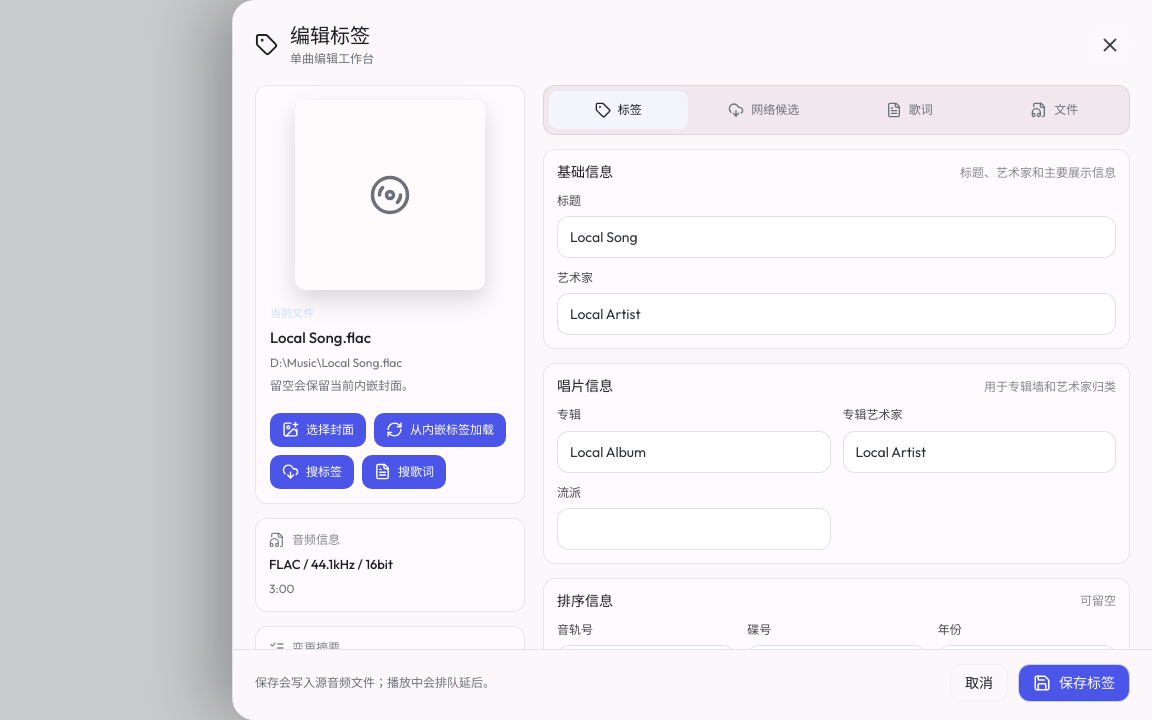
TrackTagEditorDrawer network tags › queries plugin metadata candidates manually without saving the file
This screenshot has width=1152, height=720.
Click the tab "网络候选": (764, 110) [694,91,833,129]
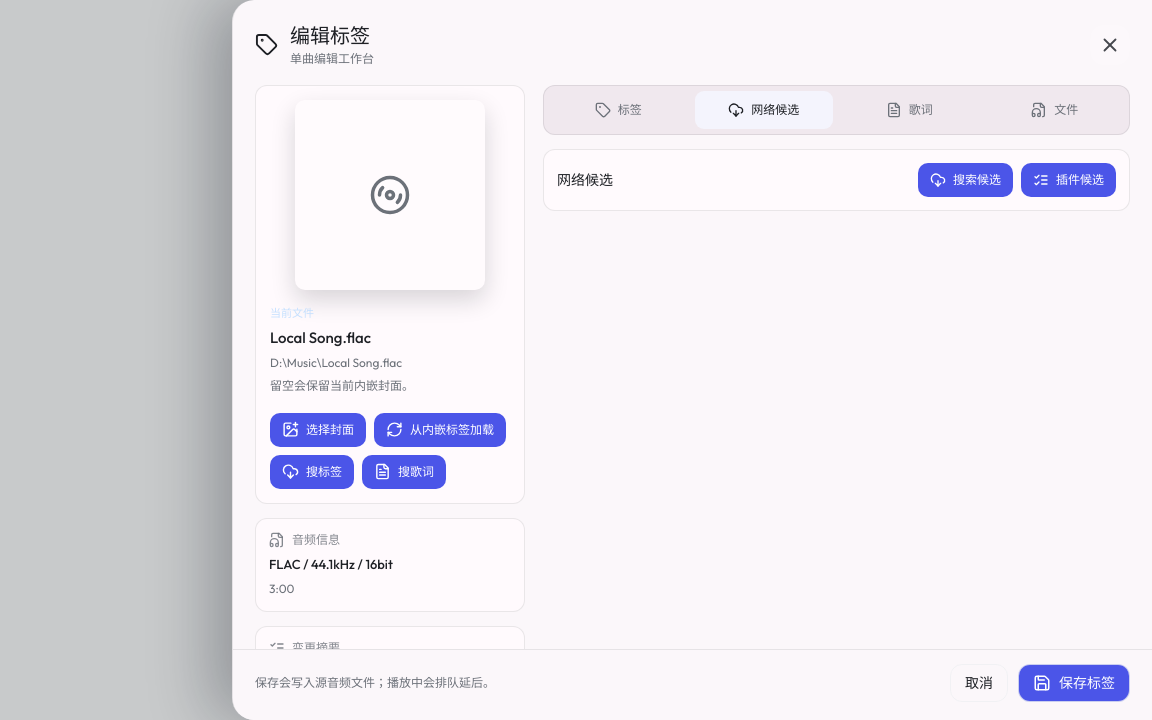
Click the button "插件候选": (1068, 180) [1021,163,1116,197]
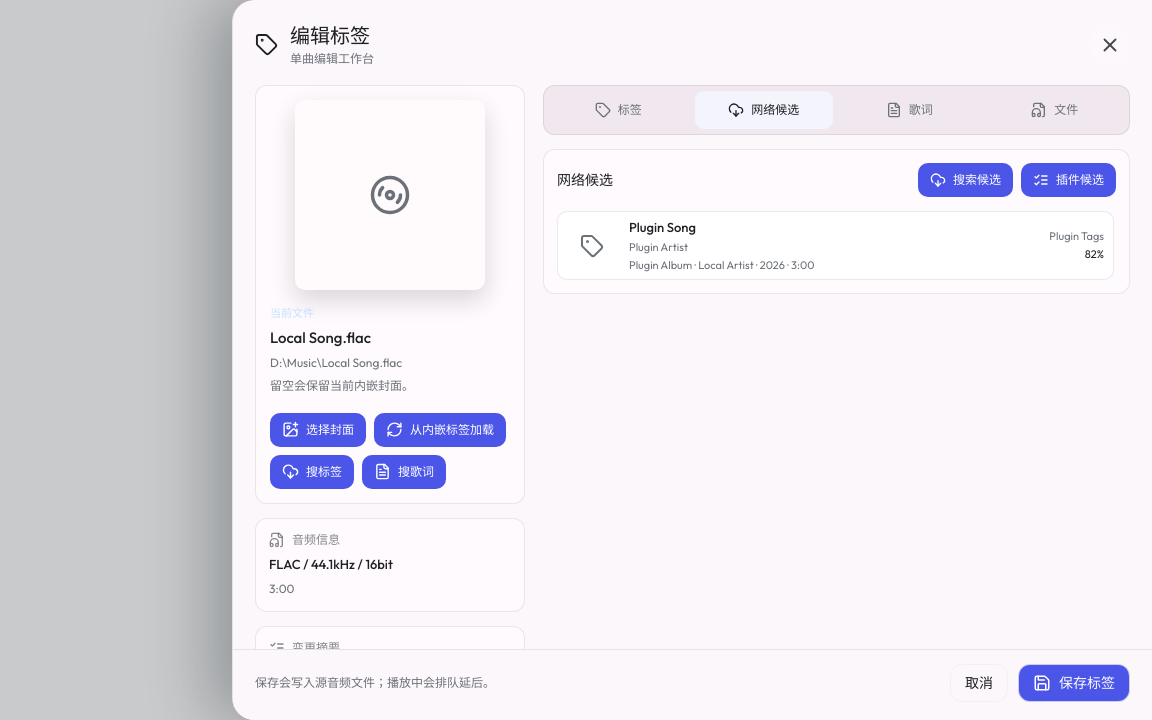
Check: the text "Plugin Song" is shown, box [629,219,696,235]
Check: the text "Plugin Tags" is shown, box [1049,230,1104,244]
